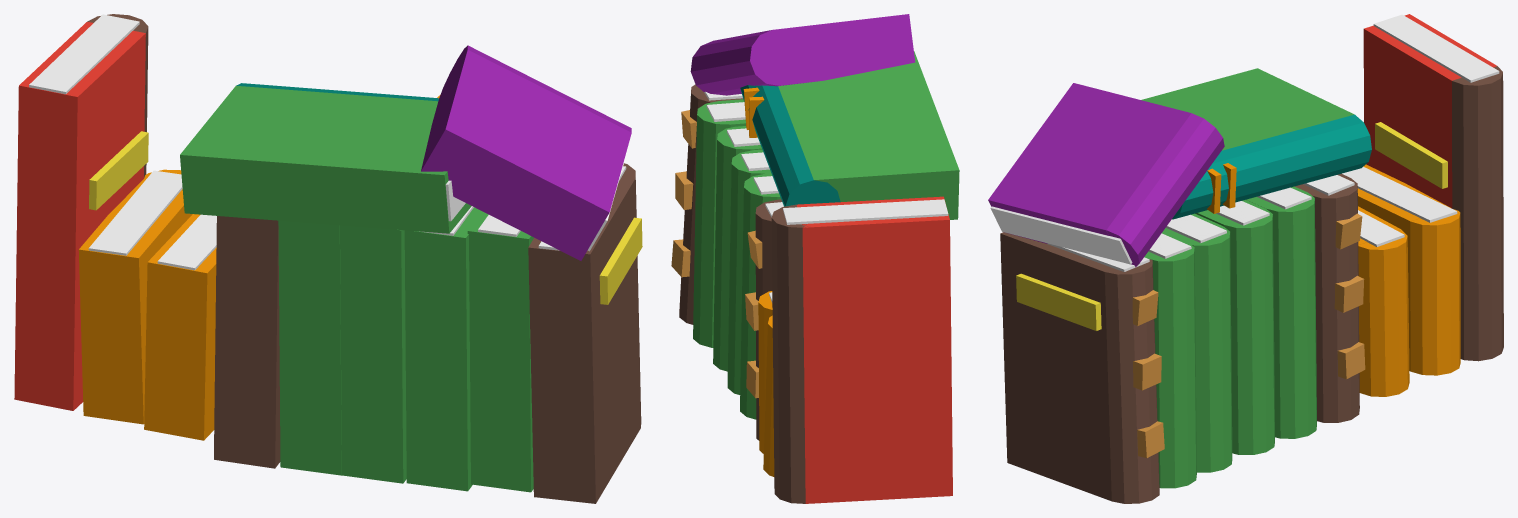
Rendered from boooks.glb.
The picture shows the model from 3 angles, left to right: view 1: azimuth 30°, elevation 25°; view 2: azimuth 150°, elevation 25°; view 3: azimuth 270°, elevation 25°; orthographic projection. The views are drawn at different scales.
Visible parts, largest first — view 1: group1213657262, group1958407320, group354486071, group1797982338, group1937947383, group200722673, group1638684653, group1190772197, group1903305753, group1111984258, group1575640598; view 2: group1213657262, group1958407320, group1797982338, group1190772197, group1937947383, group354486071, group1638684653, group1111984258, group1903305753, group1575640598, group200722673; view 3: group354486071, group1213657262, group1797982338, group1958407320, group200722673, group1638684653, group1903305753, group1111984258, group1190772197, group1937947383, group1575640598.
Part boxes in pixels (bbox=[...]): group1213657262: bbox=[14, 14, 148, 410]; group1958407320: bbox=[180, 83, 471, 233]; group354486071: bbox=[528, 163, 642, 503]; group1797982338: bbox=[421, 45, 632, 260]; group1937947383: bbox=[404, 206, 481, 491]; group200722673: bbox=[78, 169, 192, 424]; group1638684653: bbox=[340, 225, 406, 483]; group1190772197: bbox=[467, 211, 533, 492]; group1903305753: bbox=[214, 216, 280, 468]; group1111984258: bbox=[278, 220, 341, 475]; group1575640598: bbox=[144, 214, 216, 440]; group1213657262: bbox=[771, 196, 952, 503]; group1958407320: bbox=[740, 51, 959, 219]; group1797982338: bbox=[690, 14, 915, 95]; group1190772197: bbox=[693, 99, 745, 347]; group1937947383: bbox=[713, 126, 762, 371]; group354486071: bbox=[671, 84, 743, 324]; group1638684653: bbox=[727, 149, 770, 394]; group1111984258: bbox=[740, 173, 780, 419]; group1903305753: bbox=[745, 199, 783, 440]; group1575640598: bbox=[758, 291, 772, 453]; group200722673: bbox=[763, 315, 774, 476]; group354486071: bbox=[1000, 232, 1164, 503]; group1213657262: bbox=[1363, 14, 1503, 361]; group1797982338: bbox=[988, 83, 1224, 266]; group1958407320: bbox=[1141, 68, 1371, 219]; group200722673: bbox=[1342, 164, 1460, 375]; group1638684653: bbox=[1195, 199, 1274, 454]; group1903305753: bbox=[1295, 173, 1365, 422]; group1111984258: bbox=[1246, 186, 1316, 438]; group1190772197: bbox=[1144, 231, 1196, 488]; group1937947383: bbox=[1163, 213, 1232, 472]; group1575640598: bbox=[1358, 206, 1409, 396].
Bounding box in the file's own units: 0.6746 × 0.5273 × 0.7254.
